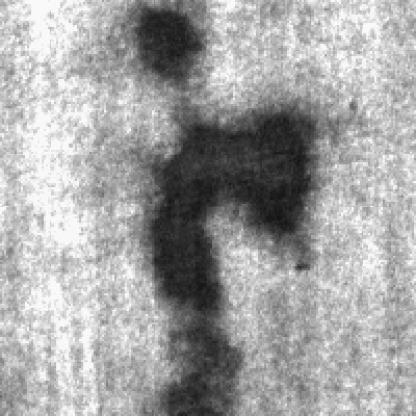patches: (152, 108, 320, 320), (166, 324, 246, 416), (142, 10, 206, 92)
